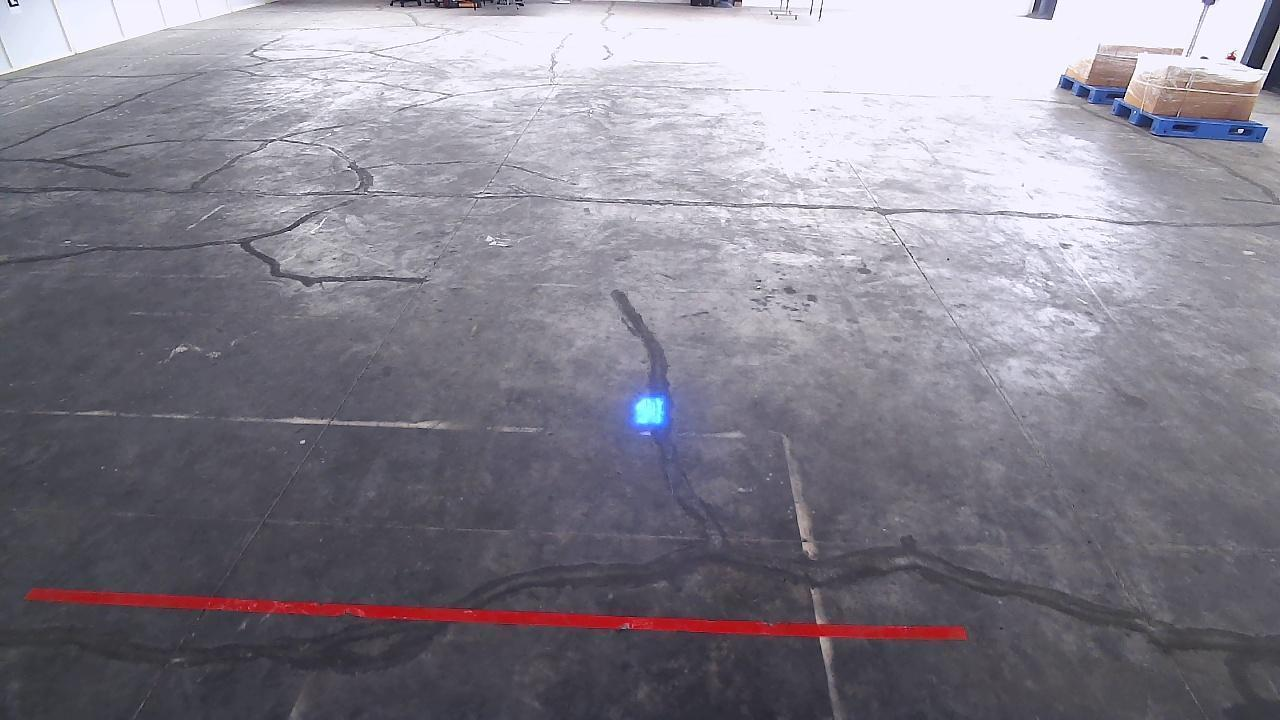red_line: (24, 587, 970, 641)
